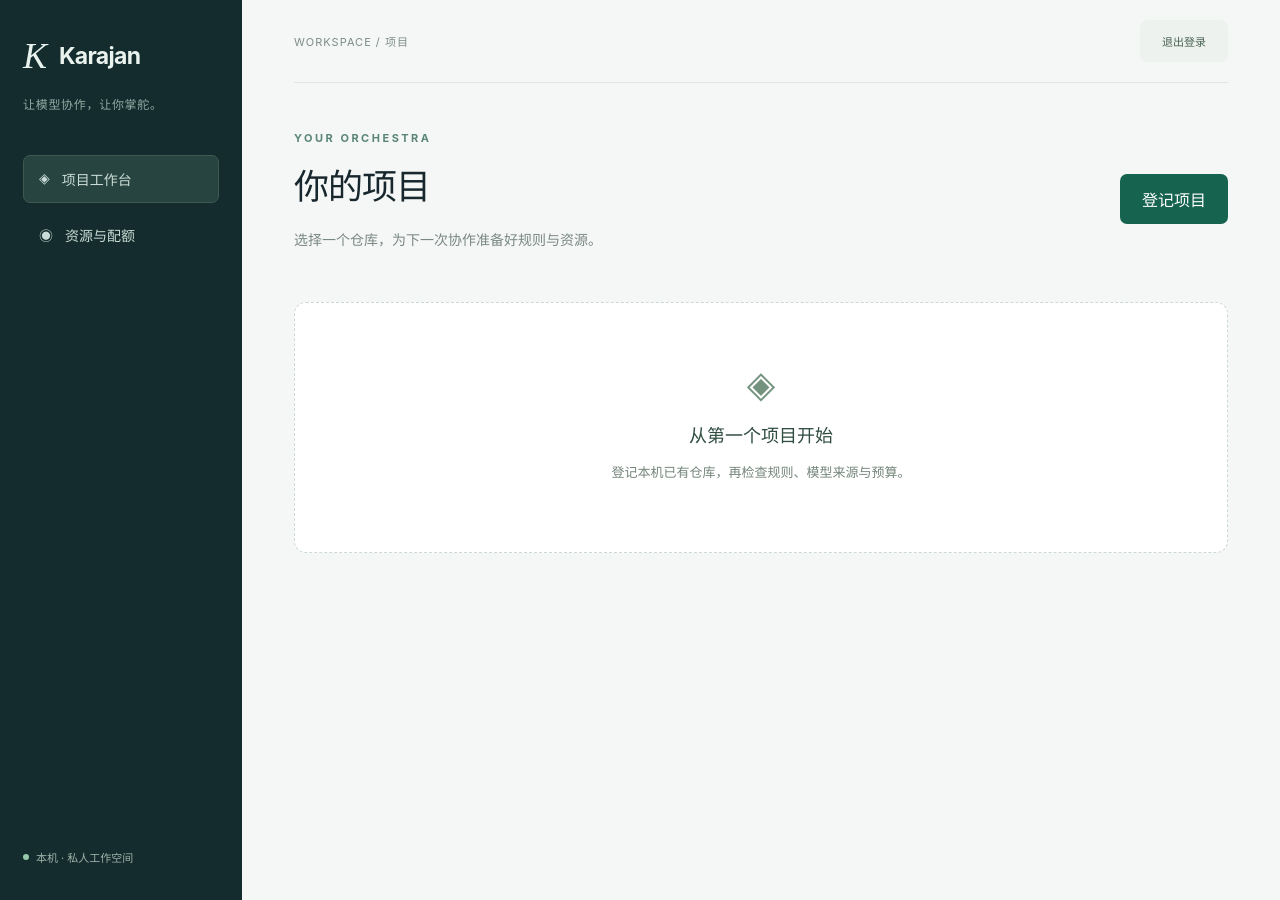
opens shared resources and leaves the view when the owner session expires
Expected: the heading "你的项目" is shown, x1=294 y1=165 x2=430 y2=207
Click the button "◉ 资源与配额". click: (121, 235)
box: x1=23 y1=211 x2=219 y2=259
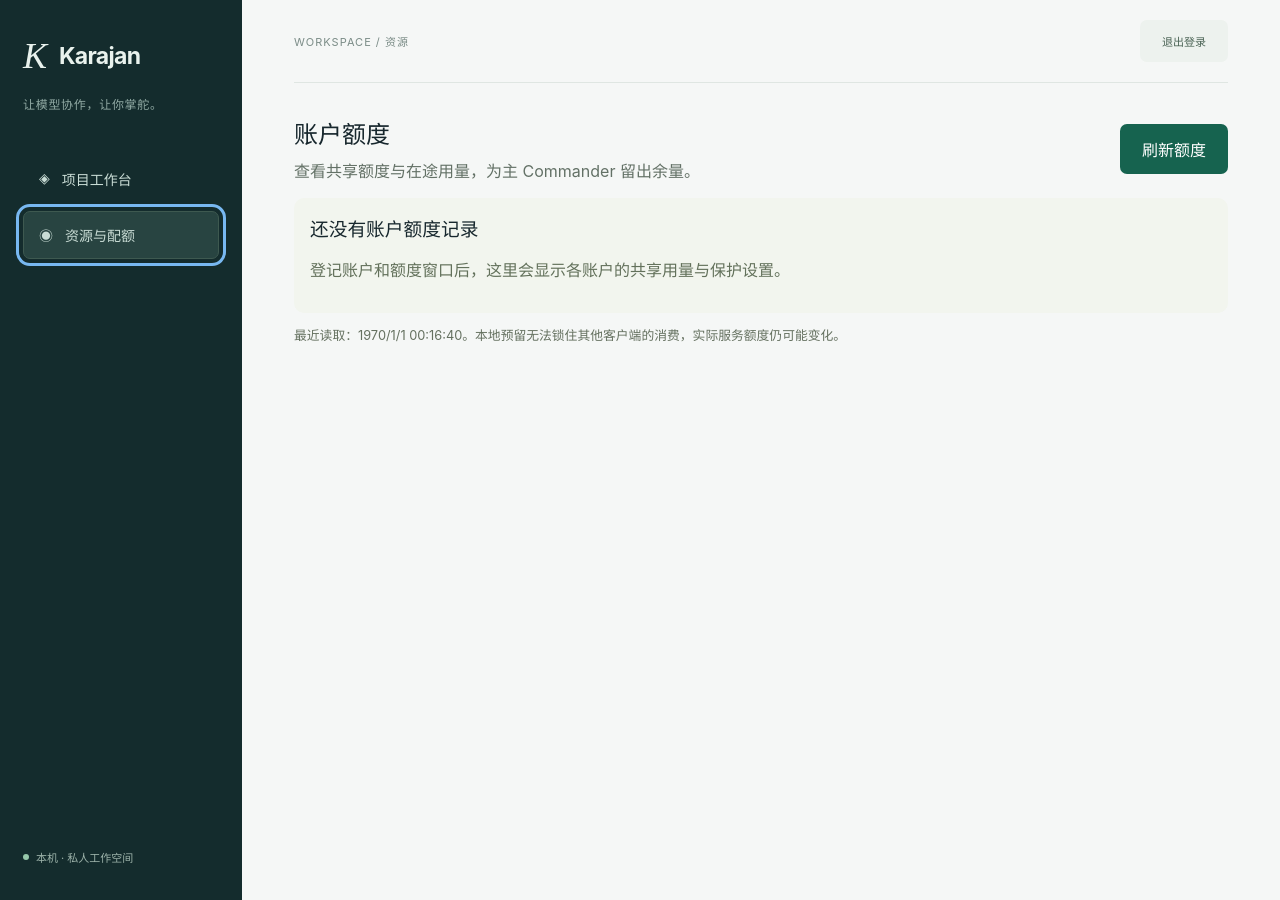
Expected: the heading "还没有账户额度记录" is shown, x1=310 y1=218 x2=478 y2=241
Expected: the heading "你的项目" is gone
Click the button "刷新额度". click: (1174, 148)
box: x1=1120 y1=124 x2=1228 y2=174
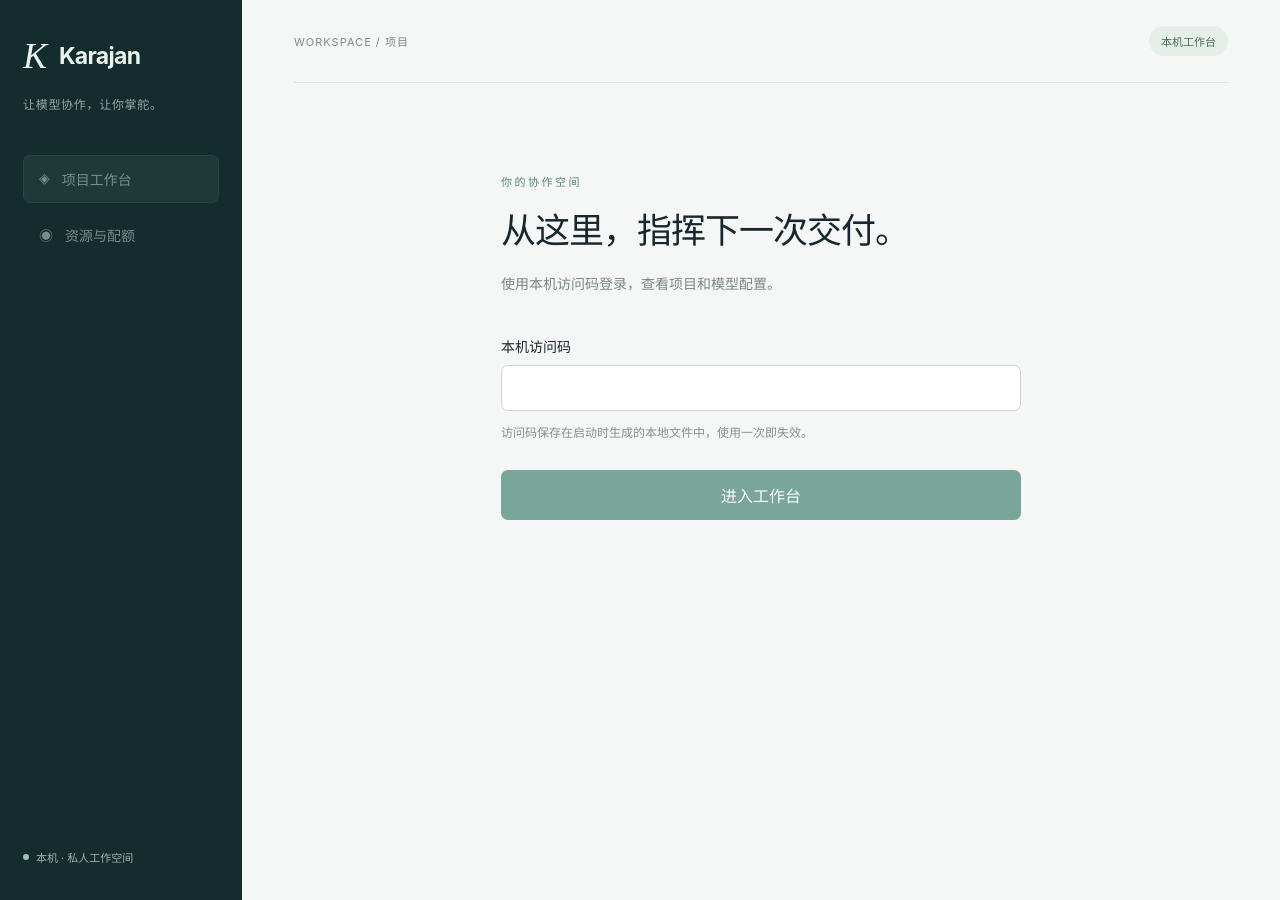
Expected: the password field labelled "本机访问码" is shown, x1=501 y1=365 x2=1021 y2=411
Expected: the heading "账户额度" is gone
